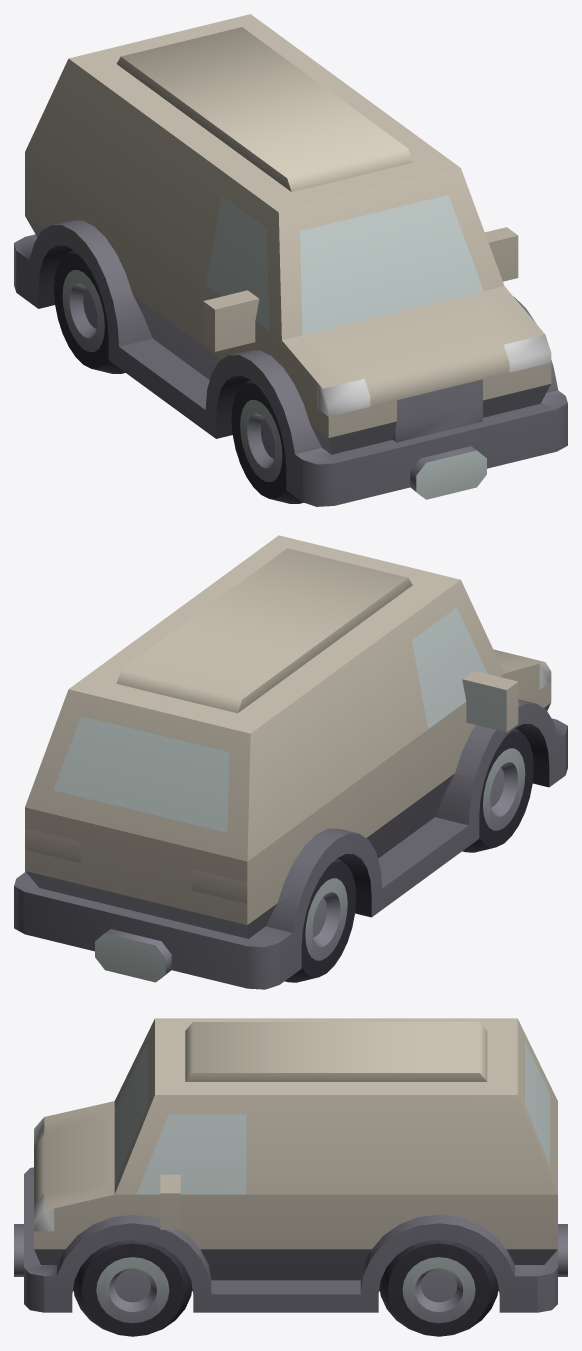
The model's file is van_plaster.glb.
3 renders of one model, top to bottom at view 1: azimuth 30°, elevation 25°; view 2: azimuth 150°, elevation 25°; view 3: azimuth 270°, elevation 25°, orthographic. The views are drawn at different scales.
Visible parts, largest first — view 1: van_plaster; view 2: van_plaster; view 3: van_plaster.
Part boxes in pixels (x1=…): van_plaster: x1=14, y1=14, x2=567, y2=506; van_plaster: x1=14, y1=535, x2=567, y2=989; van_plaster: x1=14, y1=1018, x2=567, y2=1336.
Bounding box in the file's own units: 1.5 × 1.35 × 2.75.
